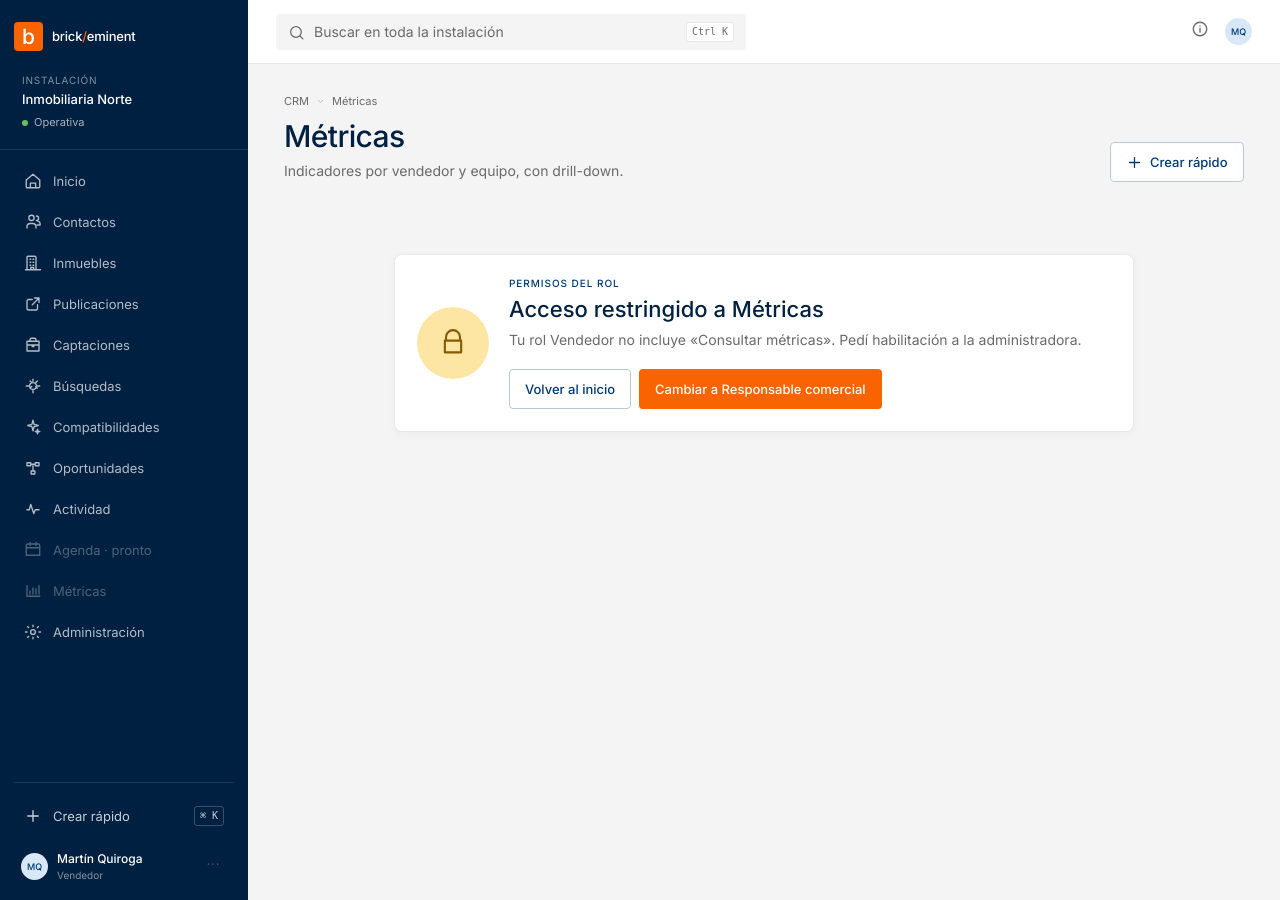
Test case: CRM selection and navigation › blocks Métricas section for vendedor and unlocks it for responsable
Check: the heading "Acceso restringido a Métricas" is shown, box top-left (509, 296), bottom-right (824, 322)
Click the button "Cambiar a Responsable comercial" at (760, 389), box top-left (639, 369), bottom-right (882, 409)
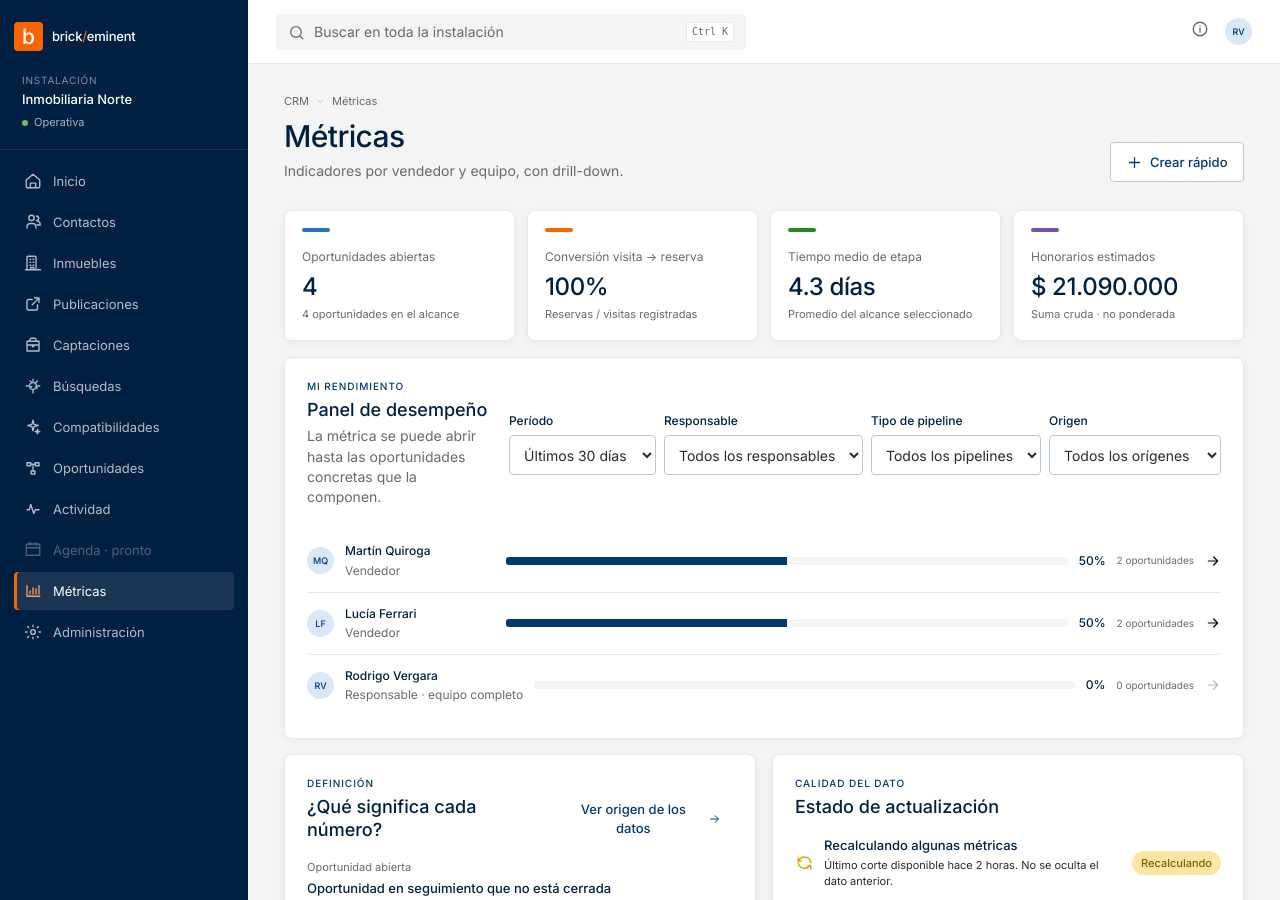
Check: the heading "Métricas" is shown, box top-left (284, 119), bottom-right (405, 153)
Check: the heading "Acceso restringido a Métricas" is gone
